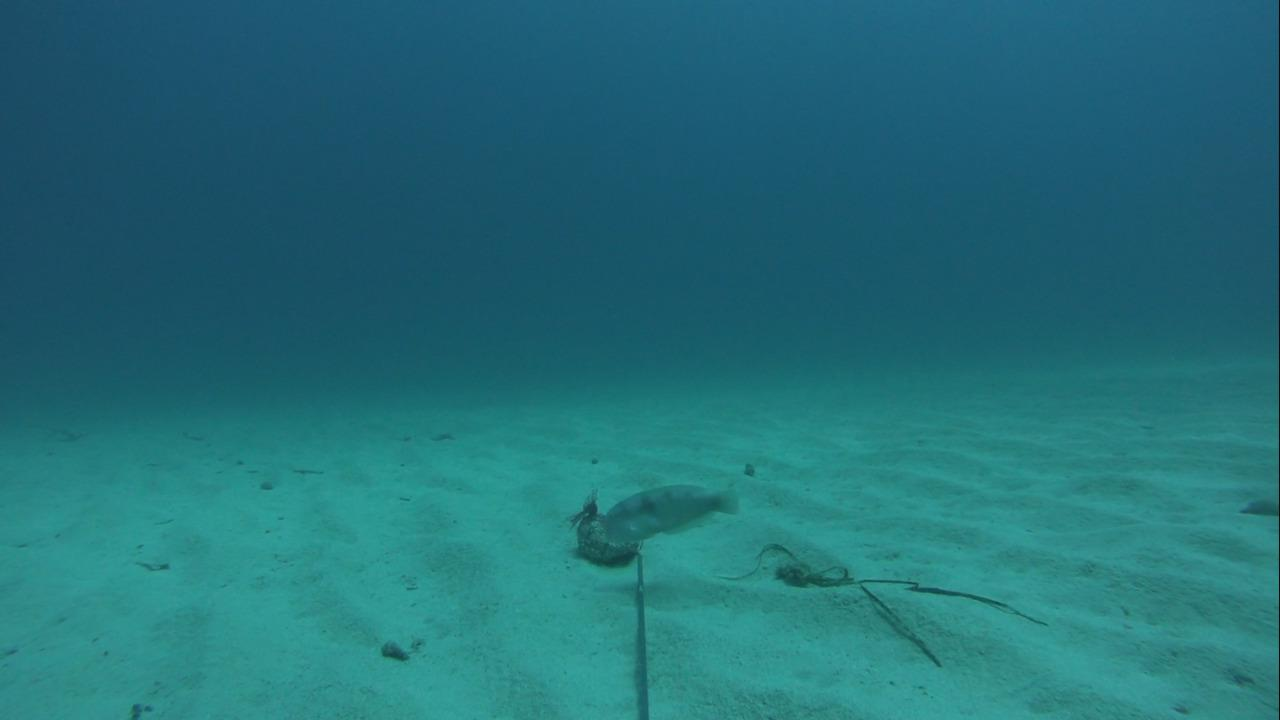raor: (595, 480, 747, 549)
